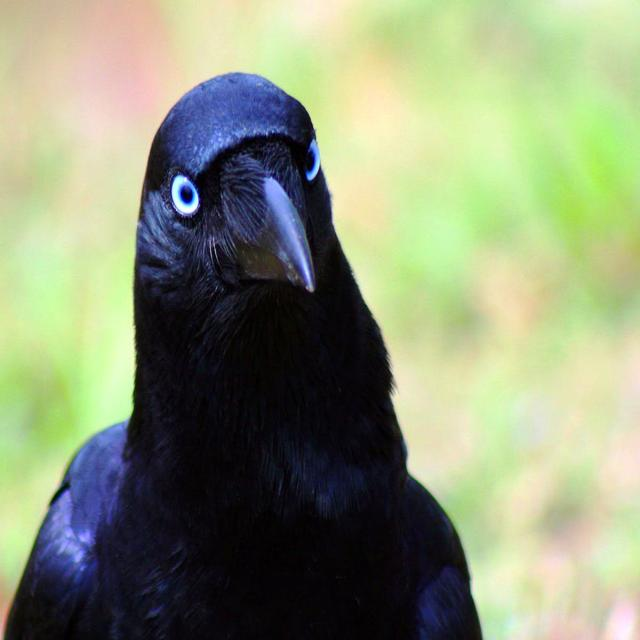crow: (4, 73, 482, 639)
